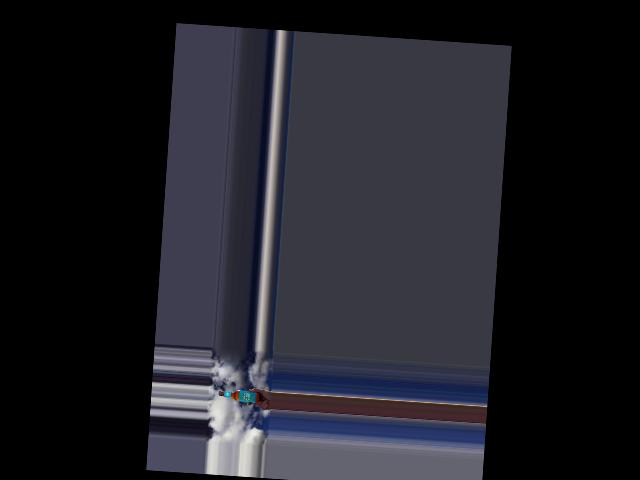beer: (218, 388, 260, 402)
